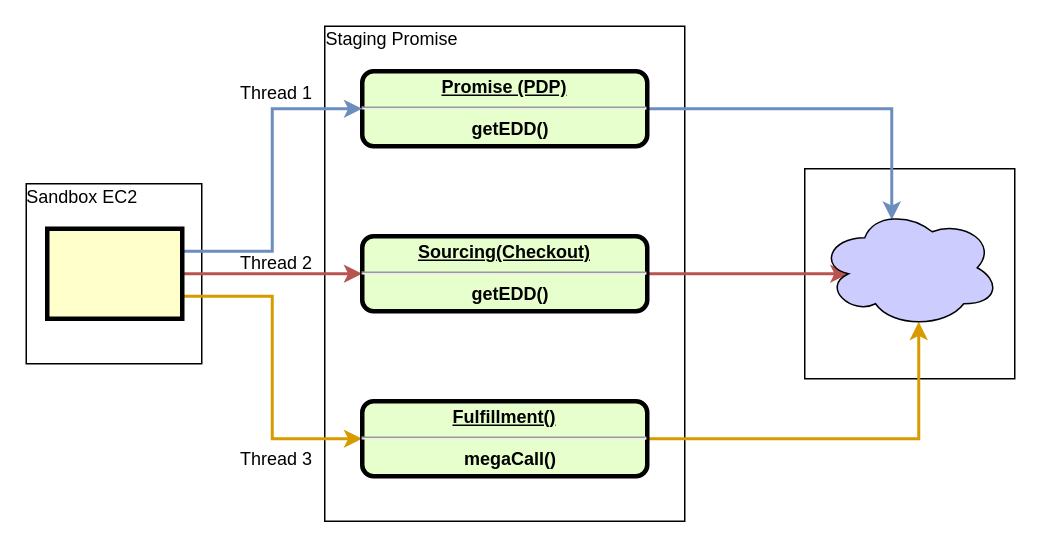
This 1041x548 diagram has some shape labels left out. Each missing label, with the box of its shape:
Jmeter: (44, 226, 184, 320)
Shipium: (818, 206, 1000, 328)
